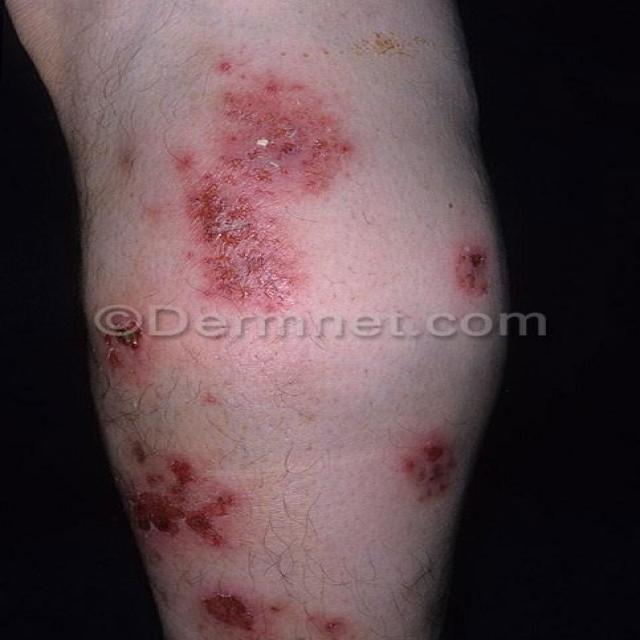Eczema: (91, 60, 493, 640)
